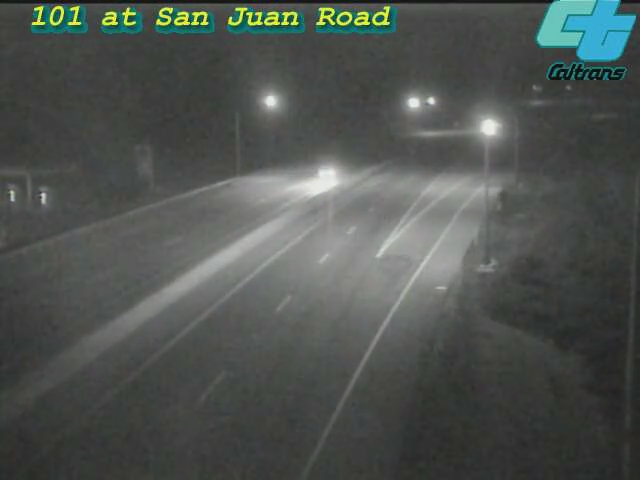vehicle: (286, 135, 366, 215), (460, 102, 510, 152)
